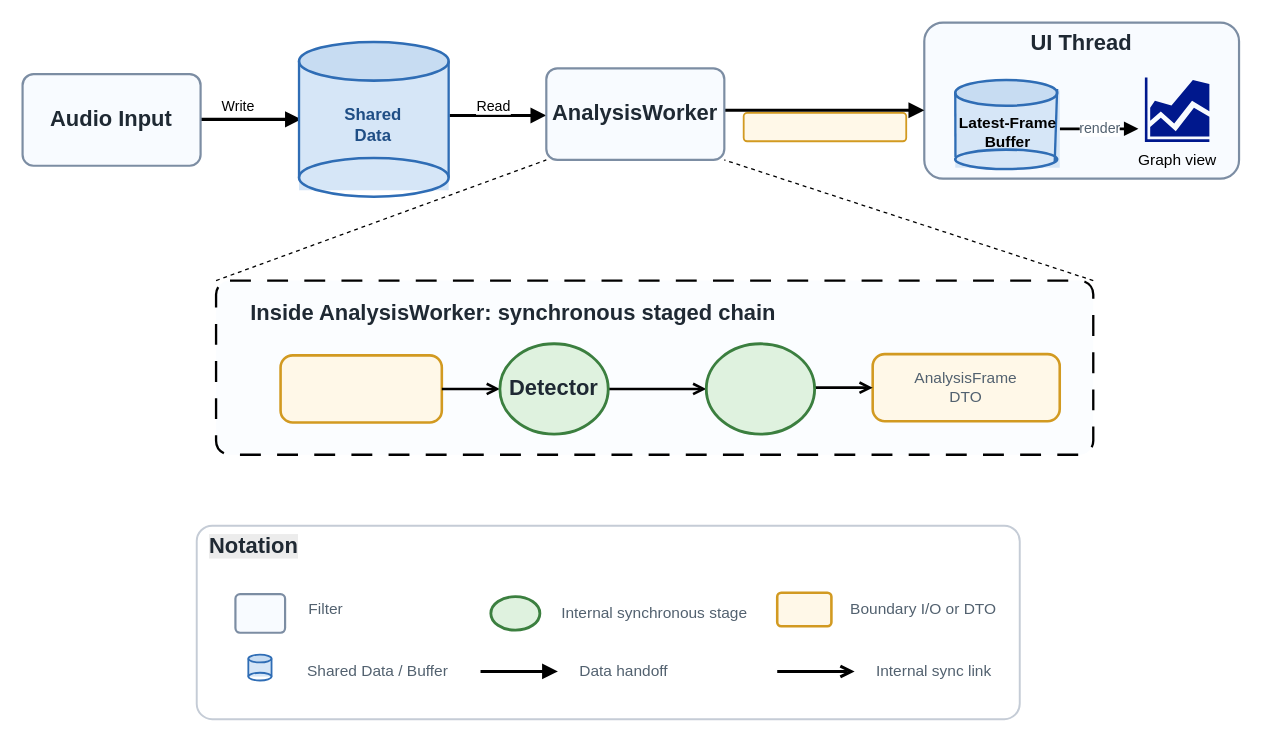
This 1263x743 diagram has some shape labels left out. The centre of each missing label's shape, as x and y in pixels:
"Analysis" goes at point (759, 388).
"Audio block from Shared Data" goes at point (360, 388).
"frame: AnalysisFrame" goes at point (824, 126).
